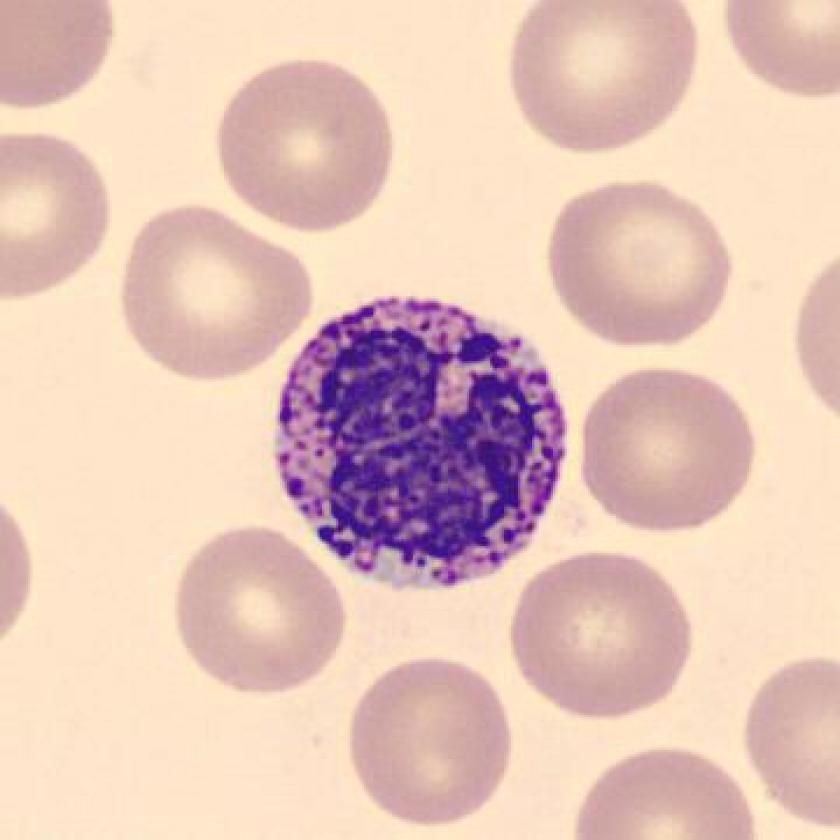basophil: (269, 286, 575, 610)
